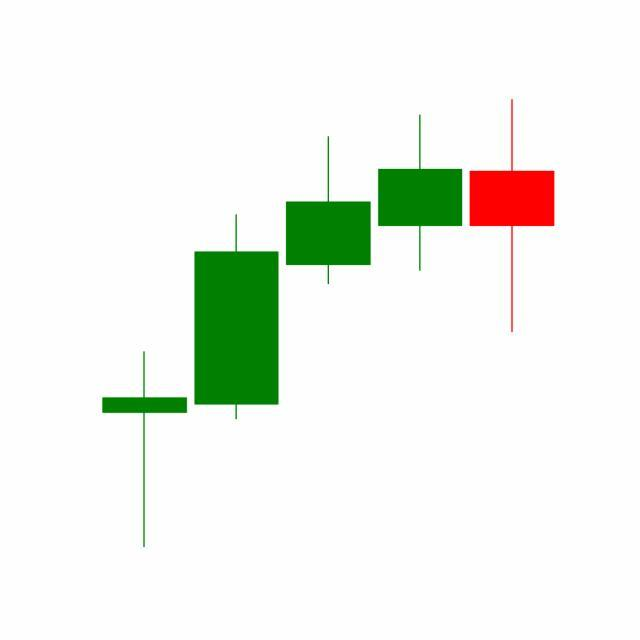Advance Block: (190, 111, 467, 423)
